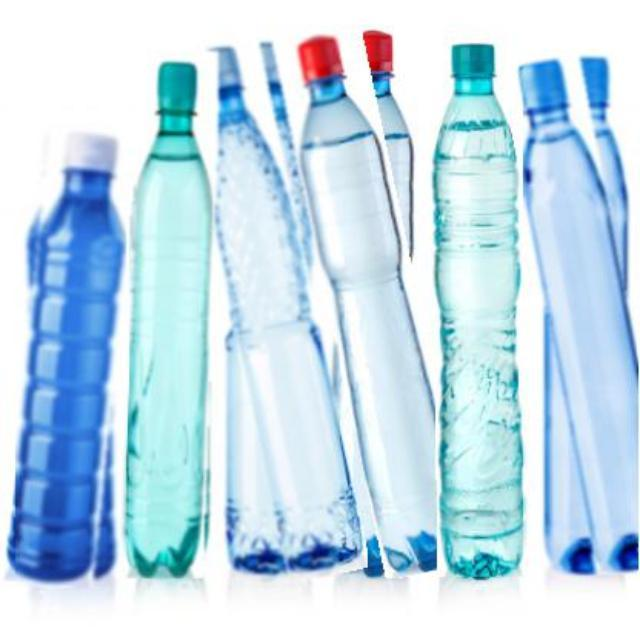Botella de plastico: (212, 45, 368, 570), (300, 35, 438, 570), (515, 61, 640, 562), (10, 134, 125, 568), (120, 60, 215, 568), (437, 43, 513, 572)
